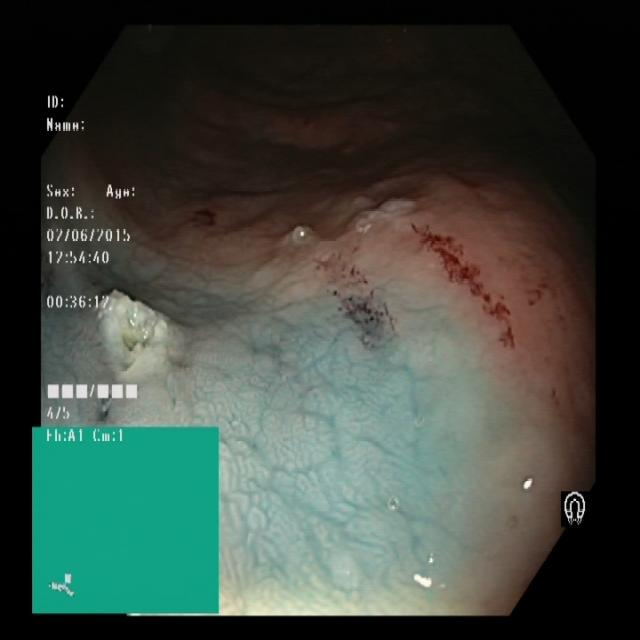dyed-resection-margins: (411, 205, 527, 370), (314, 234, 403, 359), (82, 286, 188, 381)
